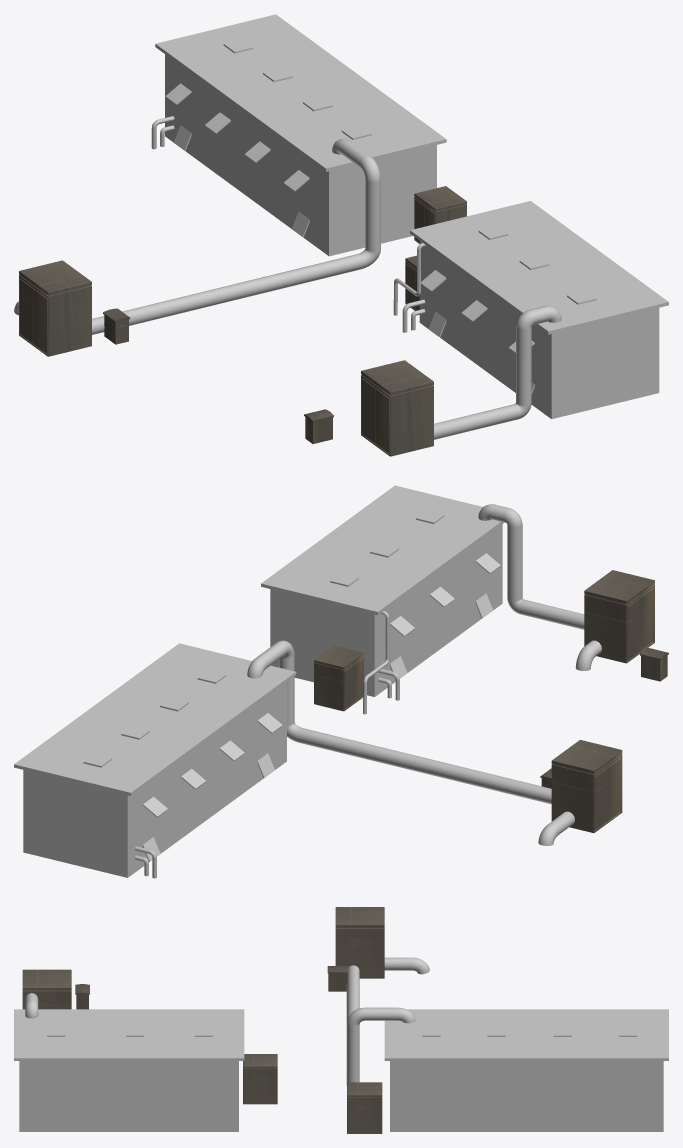
File: ShengWuTuRangLvChi.fbx
3 views of the same model, one above another, from view 1: azimuth 30°, elevation 25°; view 2: azimuth 150°, elevation 25°; view 3: azimuth 270°, elevation 25° (orthographic). The views are drawn at different scales.
Parts seen in each view (by area): view 1: FangZi, GuanDao, polySurface3, polySurface1, polySurface5, polySurface2; view 2: FangZi, GuanDao, polySurface1, polySurface3, polySurface4, polySurface2; view 3: FangZi, GuanDao, polySurface1, polySurface5, polySurface3, polySurface4, polySurface2.
Boxes of the visible parts, x1,y1,x2,y2 form: FangZi: [155, 14, 668, 419]; GuanDao: [14, 116, 561, 439]; polySurface3: [361, 360, 433, 456]; polySurface1: [19, 260, 91, 356]; polySurface5: [414, 186, 466, 243]; polySurface2: [103, 308, 333, 443]; FangZi: [14, 485, 503, 877]; GuanDao: [135, 504, 601, 878]; polySurface1: [551, 740, 622, 833]; polySurface3: [584, 570, 654, 663]; polySurface4: [314, 645, 363, 711]; polySurface2: [540, 648, 668, 788]; FangZi: [14, 1009, 668, 1131]; GuanDao: [25, 957, 429, 1085]; polySurface1: [335, 907, 384, 978]; polySurface5: [347, 1082, 382, 1133]; polySurface3: [22, 969, 71, 1009]; polySurface4: [243, 1054, 277, 1104]; polySurface2: [75, 966, 347, 1009].
Size of the model in its own units: 1471 by 365 by 2340.
